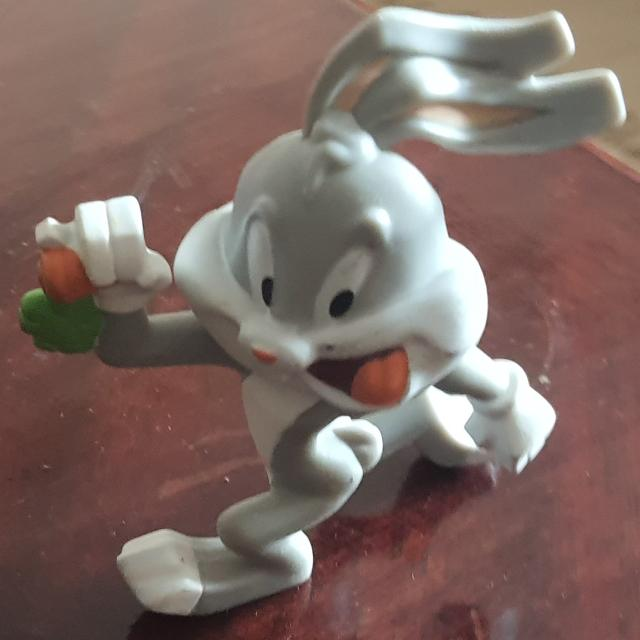Rabbit: (18, 6, 628, 618)
